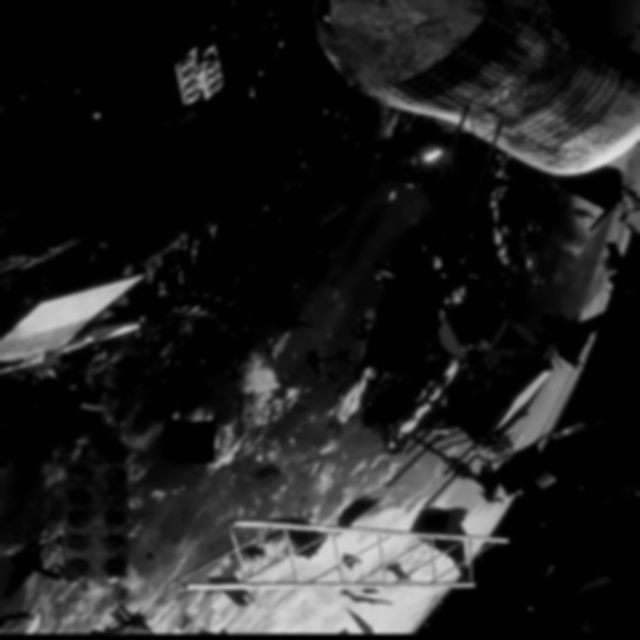large_debris: (302, 0, 640, 207), (356, 295, 610, 508), (175, 503, 517, 605), (0, 251, 174, 408), (49, 438, 150, 601), (150, 401, 243, 482), (174, 34, 245, 120), (288, 328, 370, 396)
